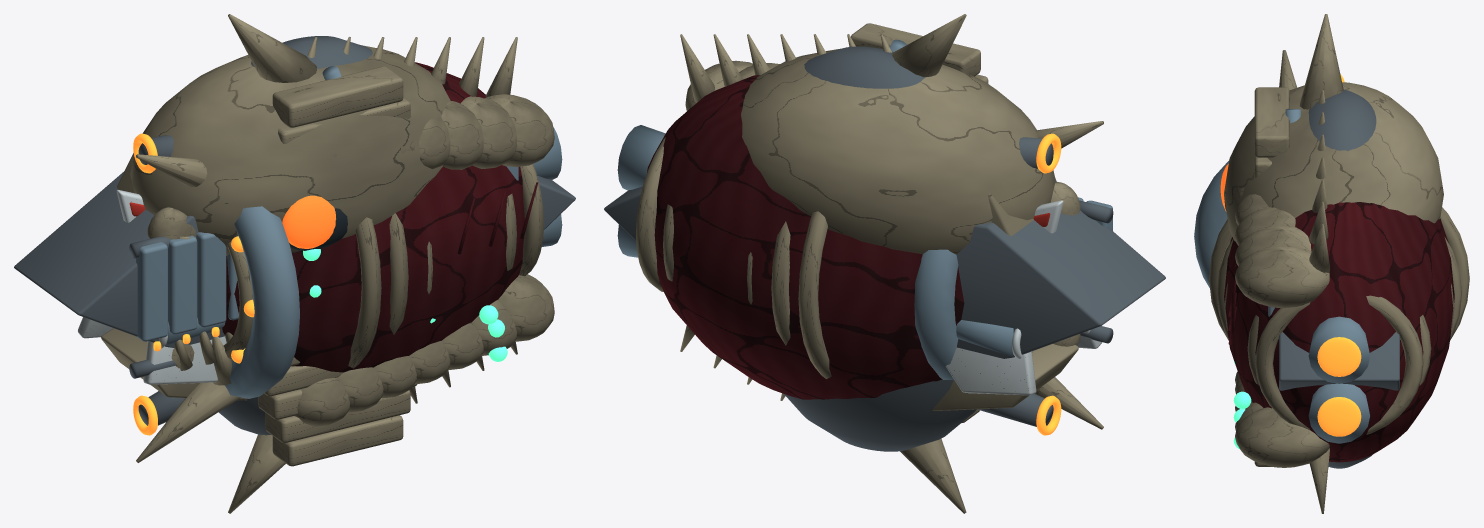
Rendered from requiem.glb.
3 renders of one model, left to right at view 1: azimuth 30°, elevation 25°; view 2: azimuth 150°, elevation 25°; view 3: azimuth 270°, elevation 25°, orthographic. The views are drawn at different scales.
Parts seen in each view (by area): view 1: leviathan_mesh, sentinel_mesh, dreadnought_mesh, r9_mesh; view 2: leviathan_mesh, sentinel_mesh, dreadnought_mesh, r9_mesh; view 3: leviathan_mesh, sentinel_mesh, dreadnought_mesh.
Part boxes in pixels (x1,y1,x2,y2): leviathan_mesh: (101,36,554,462); sentinel_mesh: (133,14,417,513); dreadnought_mesh: (14,127,575,378); r9_mesh: (78,190,231,384); leviathan_mesh: (636,34,1103,429); sentinel_mesh: (784,14,1061,513); dreadnought_mesh: (604,125,1165,358); r9_mesh: (945,200,1101,395); leviathan_mesh: (1209,50,1469,513); sentinel_mesh: (1194,14,1376,468); dreadnought_mesh: (1268,306,1399,443).
Bounding box in the file's own units: 4.85 × 4.58 × 2.51.
Materials: 14 (4 with a texture image).
